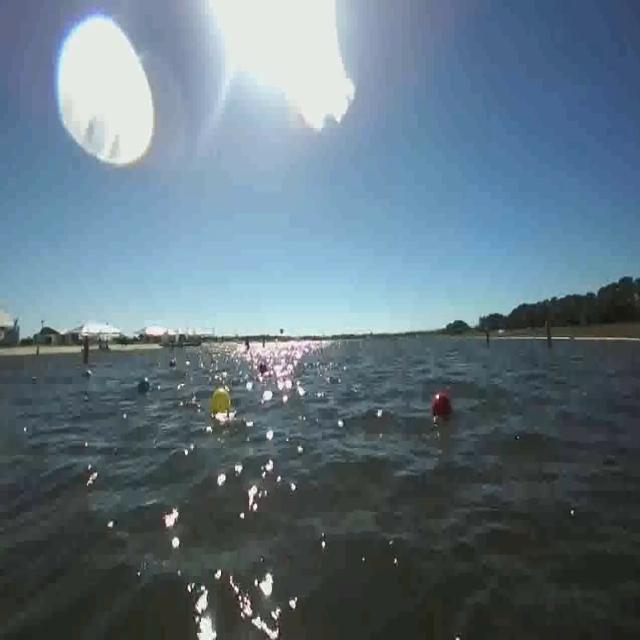red-buoy: (434, 396, 451, 416)
yellow-buoy: (209, 386, 233, 421)
